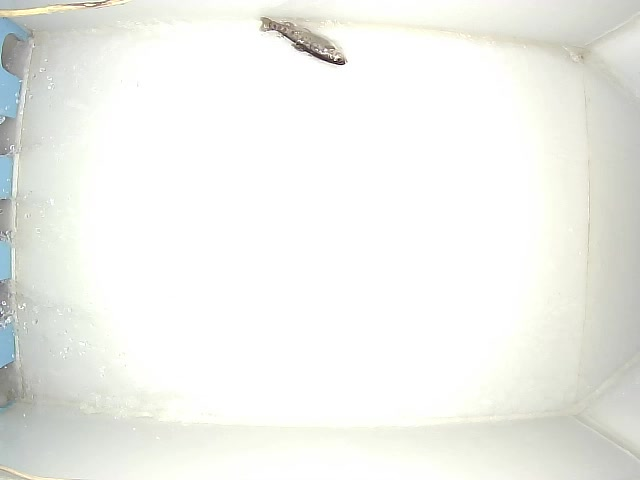fish: (258, 15, 348, 67)
